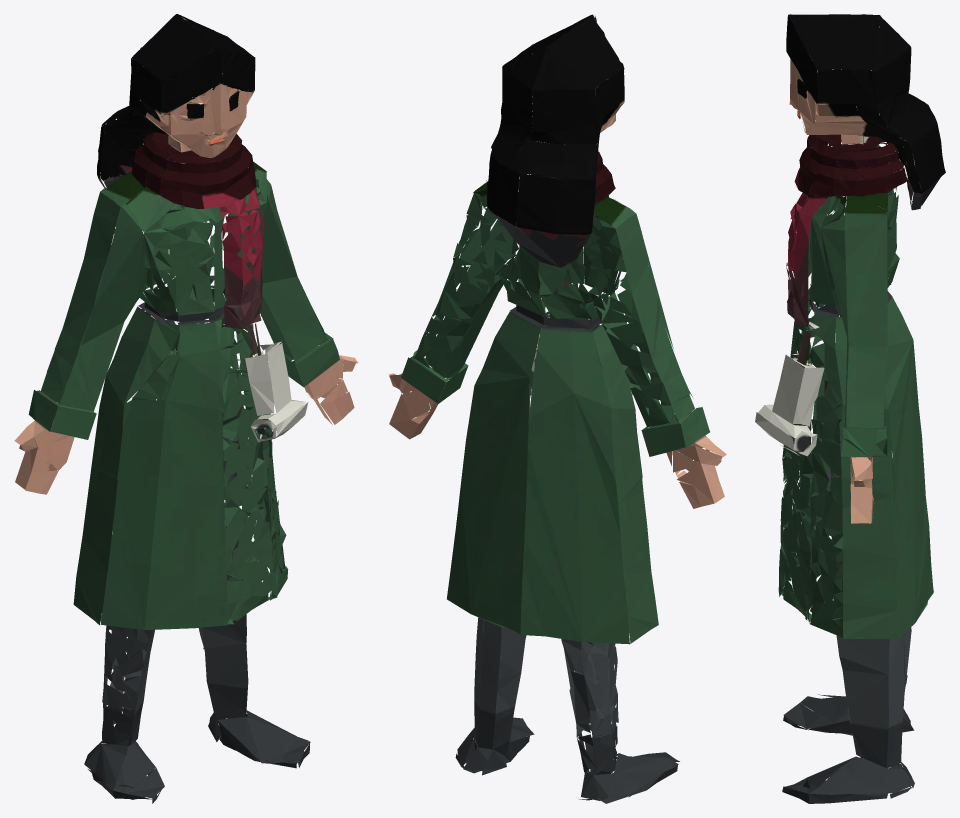
The model's file is habitant.glb.
The picture shows the model from 3 angles, left to right: view 1: azimuth 30°, elevation 25°; view 2: azimuth 150°, elevation 25°; view 3: azimuth 270°, elevation 25°; orthographic projection.
Visible parts, largest first — view 1: world; view 2: world; view 3: world.
Boxes of the visible parts, box(x1,y1,x2,y2) form: world: box(14, 14, 358, 803); world: box(388, 14, 726, 803); world: box(755, 14, 945, 803).
Size of the model in its own units: 0.4843 by 1 by 0.2336.
Materials: 1 (1 with a texture image).
